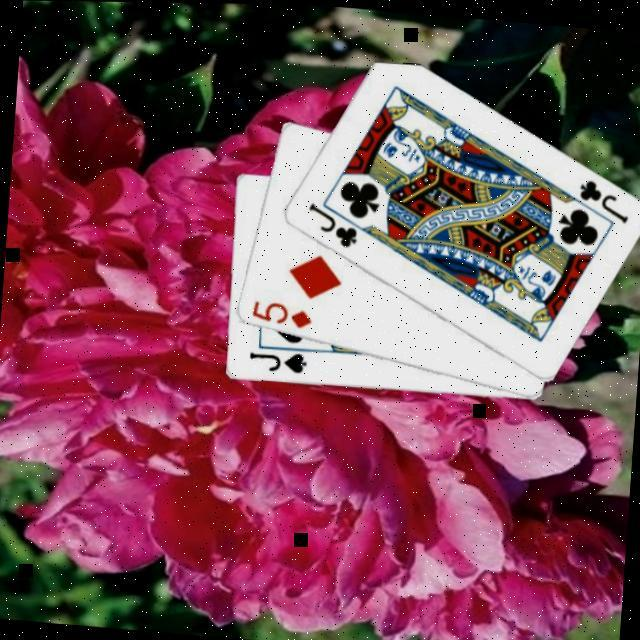5D: (248, 297, 316, 333)
JC: (302, 198, 362, 252), (573, 174, 634, 226)
JS: (246, 346, 310, 377)
